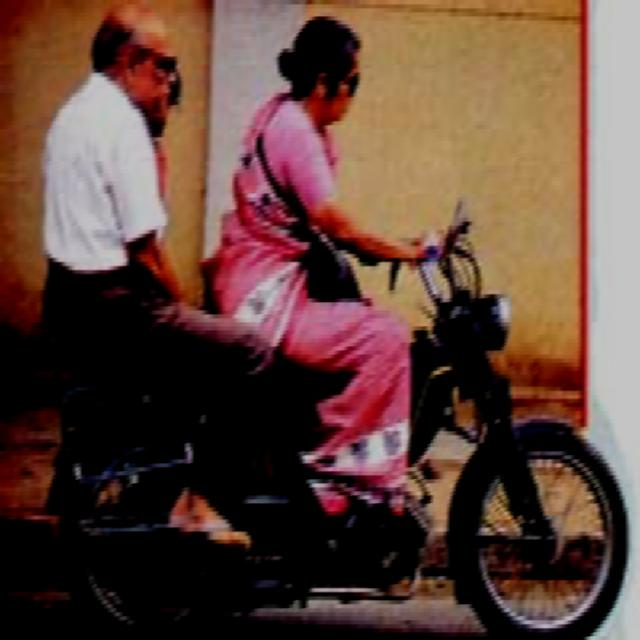Without Helmet: (82, 0, 176, 113), (272, 16, 362, 129)
